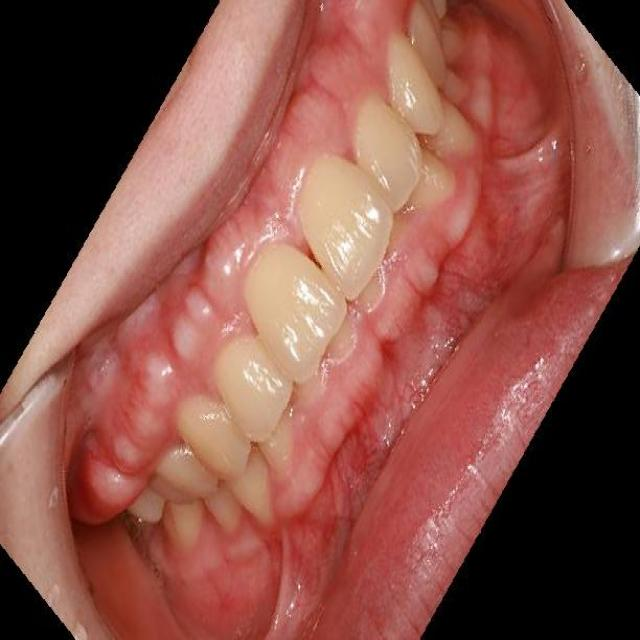swelling: (318, 98, 365, 176), (255, 203, 315, 264)
